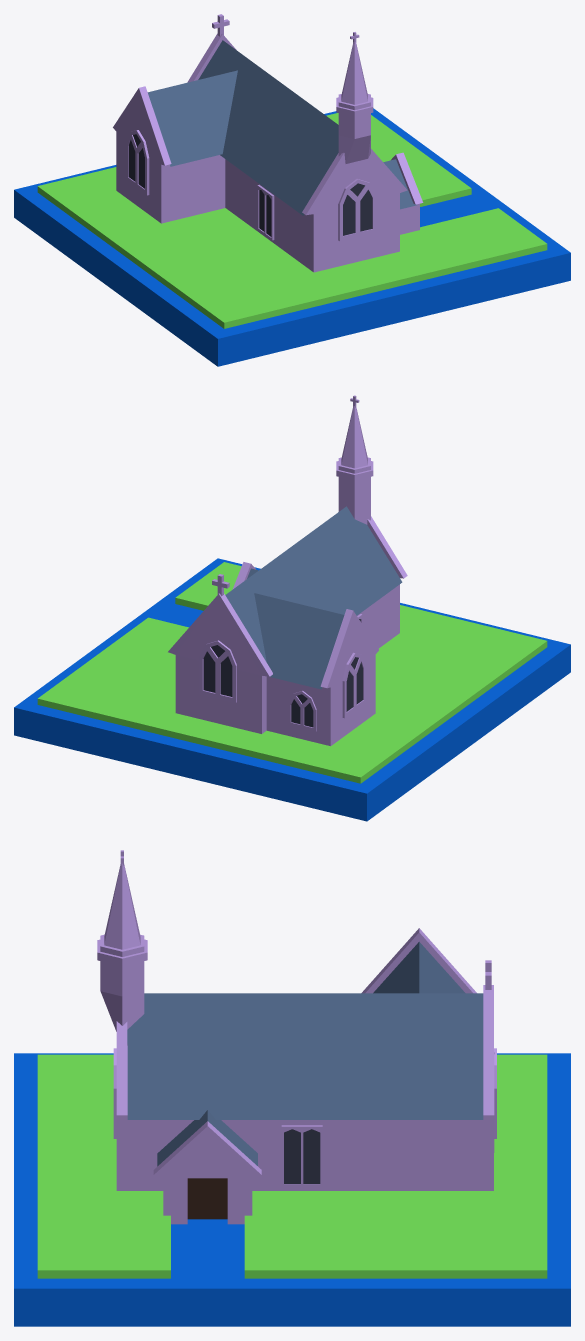
File: Church Building.fbx
3 views of the same model, one above another, from view 1: azimuth 30°, elevation 25°; view 2: azimuth 150°, elevation 25°; view 3: azimuth 270°, elevation 25° (orthographic). The views are drawn at different scales.
Parts seen in each view (by area): view 1: Church Grass, Church Foundation, Church Stone Walls, Chruch Roof, Church Windows; view 2: Church Grass, Church Foundation, Church Stone Walls, Chruch Roof, Church Windows; view 3: Church Grass, Chruch Roof, Church Foundation, Church Stone Walls, Church Windows, Church Door.
Boxes of the visible parts, box(x1,y1,x2,y2) form: Church Grass: box(37, 113, 547, 328); Church Foundation: box(14, 108, 570, 366); Church Stone Walls: box(113, 14, 423, 272); Chruch Roof: box(147, 40, 417, 215); Church Windows: box(128, 134, 372, 236); Church Grass: box(37, 562, 547, 783); Church Foundation: box(14, 558, 570, 821); Church Stone Walls: box(168, 395, 407, 746); Chruch Roof: box(225, 506, 402, 689); Church Windows: box(203, 619, 362, 727); Church Grass: box(37, 1054, 547, 1278); Chruch Roof: box(127, 941, 483, 1166); Church Foundation: box(14, 1053, 570, 1326); Church Stone Walls: box(97, 850, 496, 1224); Church Windows: box(284, 1129, 320, 1184); Church Door: box(187, 1178, 227, 1219).
Size of the model in its own units: 26.33 by 18.68 by 26.33.
